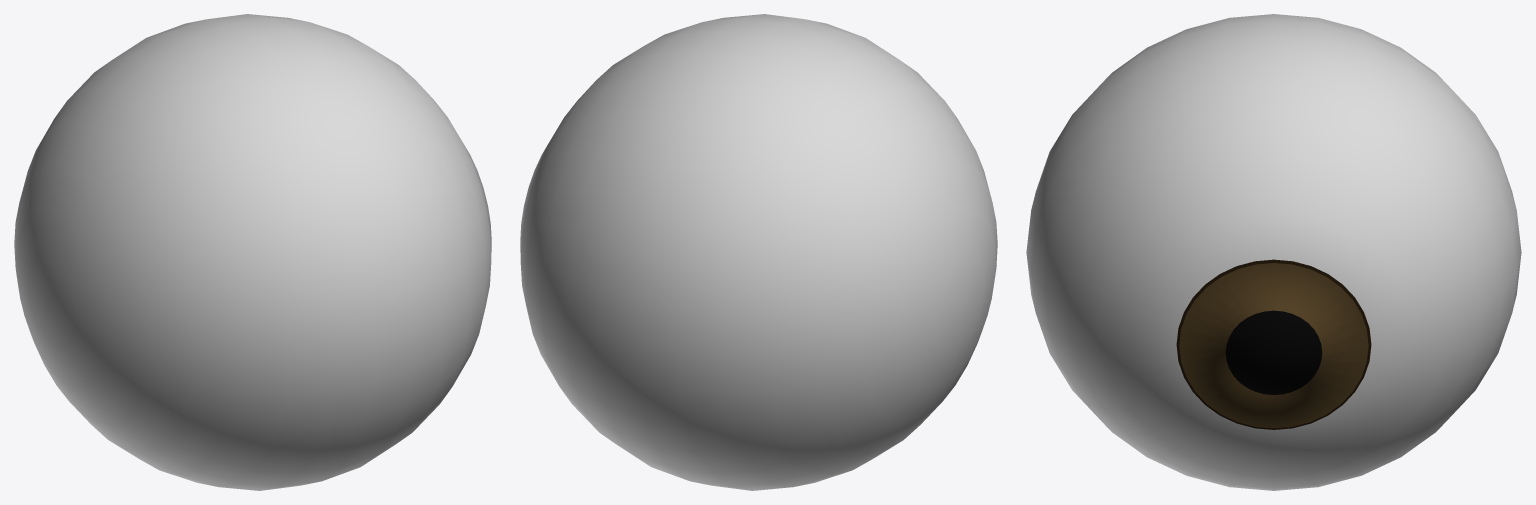
Rendered from Eye.fbx.
The picture shows the model from 3 angles, left to right: view 1: azimuth 30°, elevation 25°; view 2: azimuth 150°, elevation 25°; view 3: azimuth 270°, elevation 25°; orthographic projection.
Parts seen in each view (by area): view 1: Sphere.001; view 2: Sphere.001; view 3: Sphere.001.
Part boxes in pixels (x1=…): Sphere.001: x1=14, y1=14, x2=491, y2=490; Sphere.001: x1=520, y1=14, x2=997, y2=490; Sphere.001: x1=1026, y1=14, x2=1521, y2=490.
Bounding box in the file's own units: 191 × 190 × 197.
